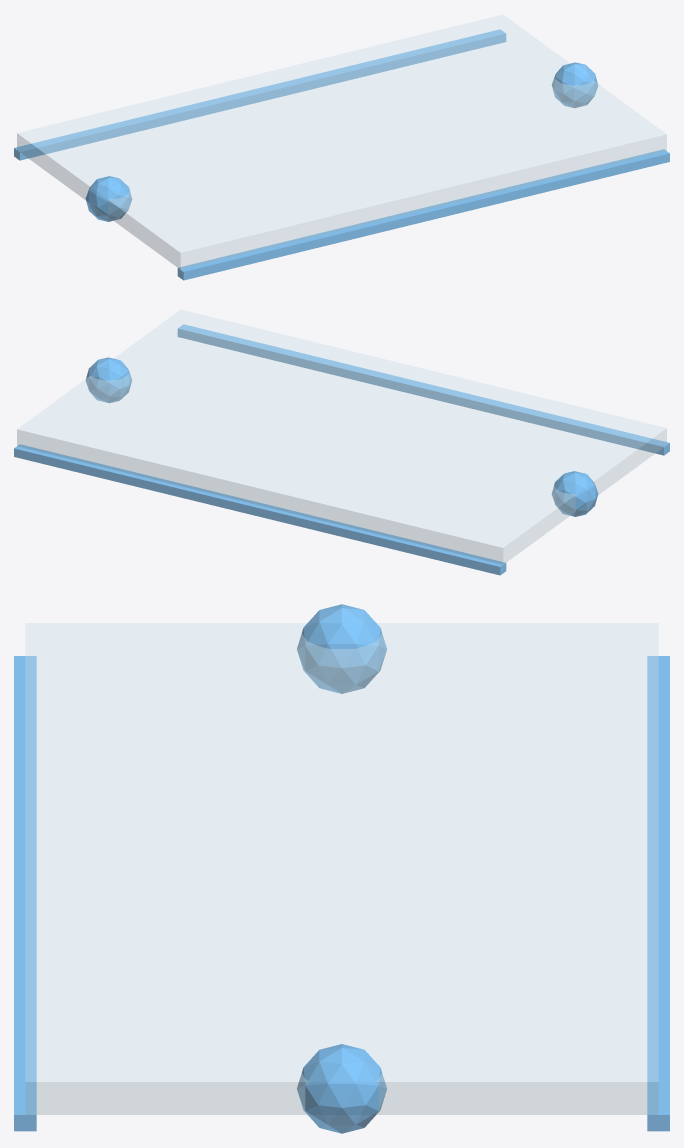
Rendered from vfx_barrier_wall.glb.
3 renders of one model, top to bottom at view 1: azimuth 30°, elevation 25°; view 2: azimuth 150°, elevation 25°; view 3: azimuth 270°, elevation 25°, orthographic. The views are drawn at different scales.
Parts seen in each view (by area): view 1: panel, top, bottom, anchor_l, anchor_r; view 2: panel, bottom, top, anchor_l, anchor_r; view 3: panel, top, bottom, anchor_r, anchor_l.
Boxes of the visible parts, bbox=[...] form: panel: bbox=[17, 14, 666, 269]; top: bbox=[177, 149, 669, 280]; bottom: bbox=[14, 29, 506, 160]; anchor_l: bbox=[85, 176, 132, 221]; anchor_r: bbox=[552, 62, 598, 108]; panel: bbox=[17, 309, 666, 564]; bottom: bbox=[14, 444, 506, 575]; top: bbox=[177, 324, 669, 455]; anchor_l: bbox=[551, 471, 598, 516]; anchor_r: bbox=[85, 357, 131, 403]; panel: bbox=[25, 623, 658, 1114]; top: bbox=[14, 656, 36, 1131]; bottom: bbox=[647, 656, 669, 1131]; anchor_r: bbox=[297, 1044, 386, 1133]; anchor_l: bbox=[297, 604, 386, 693].
Bounding box in the file's own units: 2.5 × 0.2 × 1.45.
